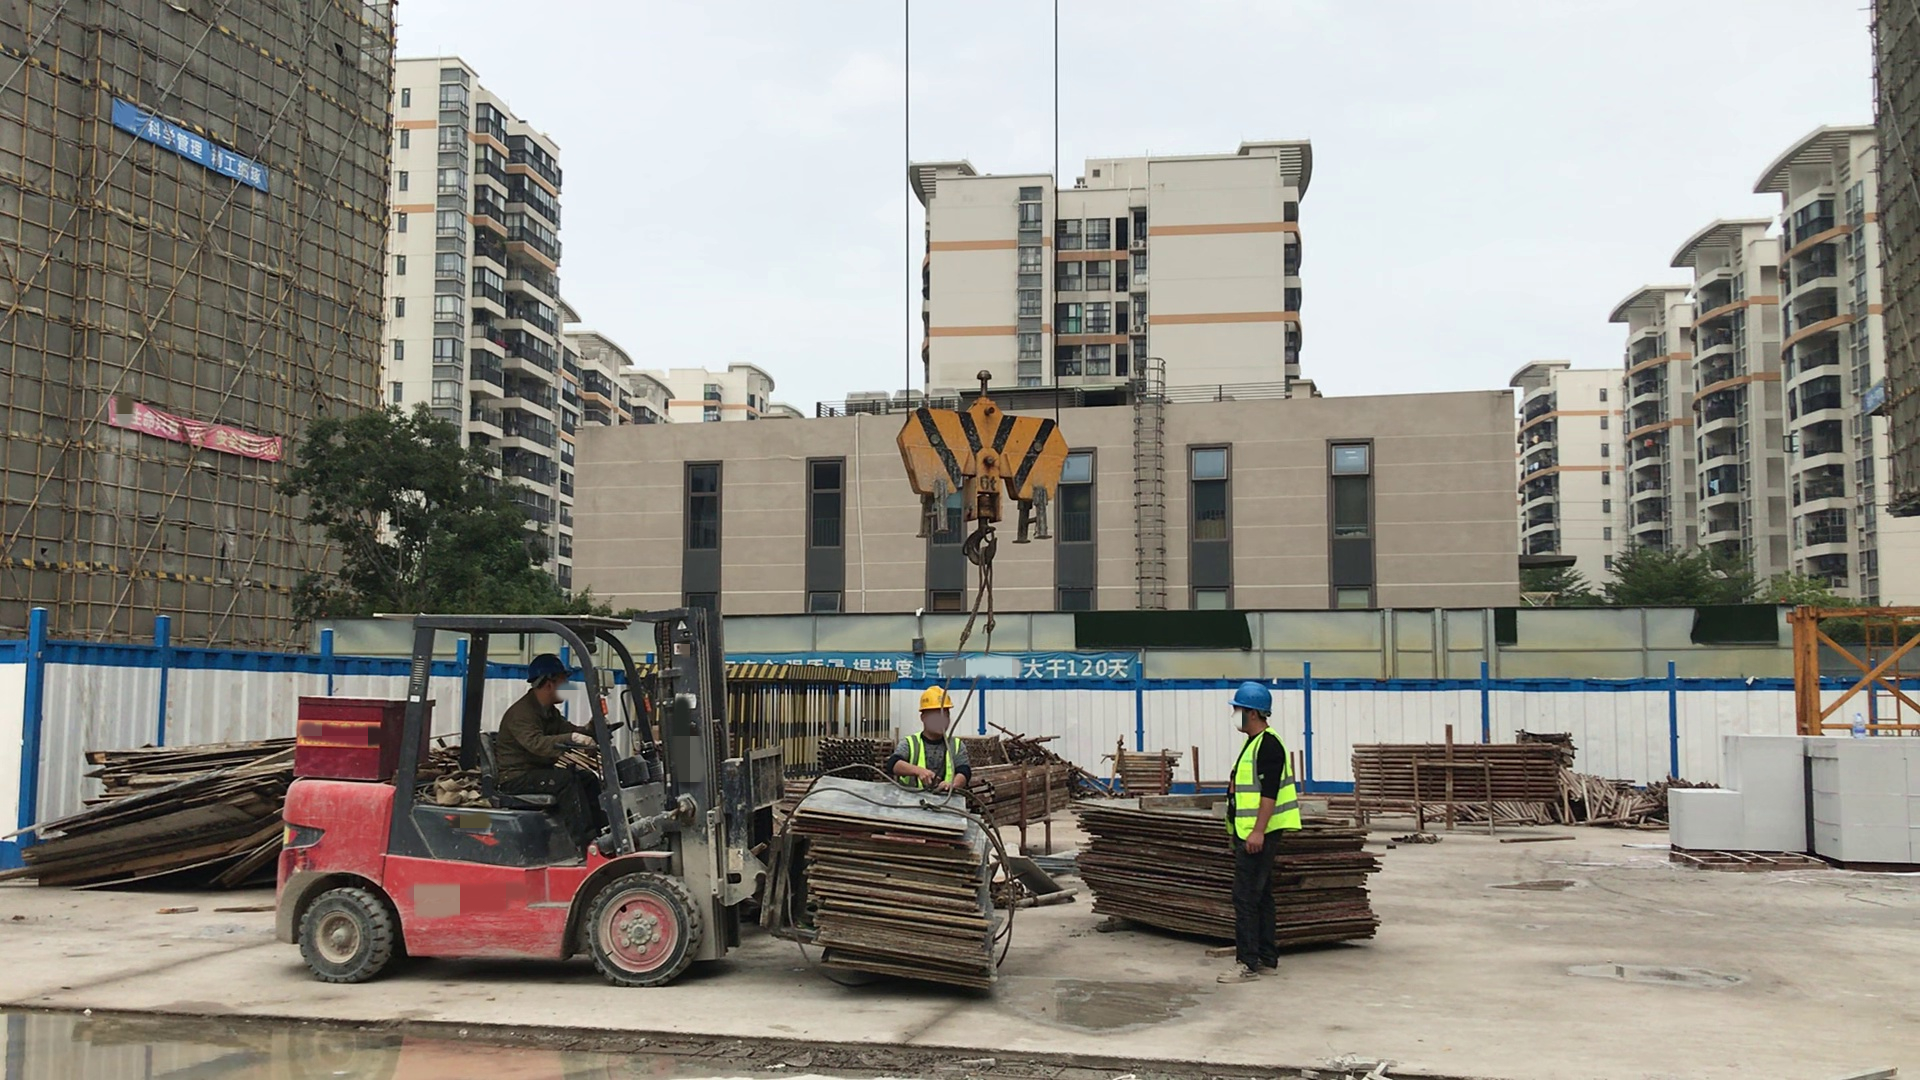board: (789, 771, 1010, 1006), (12, 735, 286, 894), (1071, 785, 1225, 961), (1280, 812, 1396, 960)
brick: (1658, 732, 1808, 853), (1816, 734, 1920, 870)
helmet: (1226, 680, 1275, 717), (912, 682, 958, 716), (522, 653, 566, 686)
hook: (902, 360, 1062, 583)
person: (1226, 680, 1312, 994), (499, 648, 603, 858), (889, 680, 978, 808)
scaffold: (1350, 737, 1560, 808), (1101, 750, 1185, 792)
slogan: (110, 100, 263, 194), (99, 390, 284, 467), (895, 652, 1134, 687), (1858, 380, 1893, 413)
vest: (1230, 730, 1306, 838), (904, 727, 962, 790)
